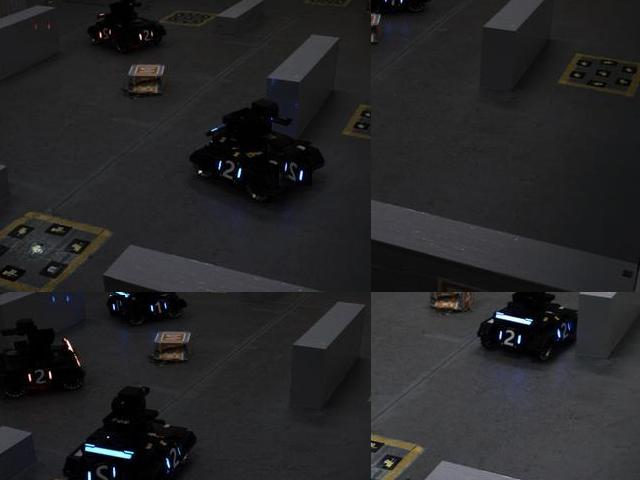armor: (279, 156, 313, 187), (215, 152, 245, 187), (156, 442, 185, 478), (84, 458, 125, 479), (496, 327, 528, 349), (132, 23, 156, 48), (23, 368, 55, 386), (148, 297, 170, 318), (554, 321, 574, 341), (97, 23, 116, 43), (110, 296, 126, 317), (382, 0, 409, 11)
